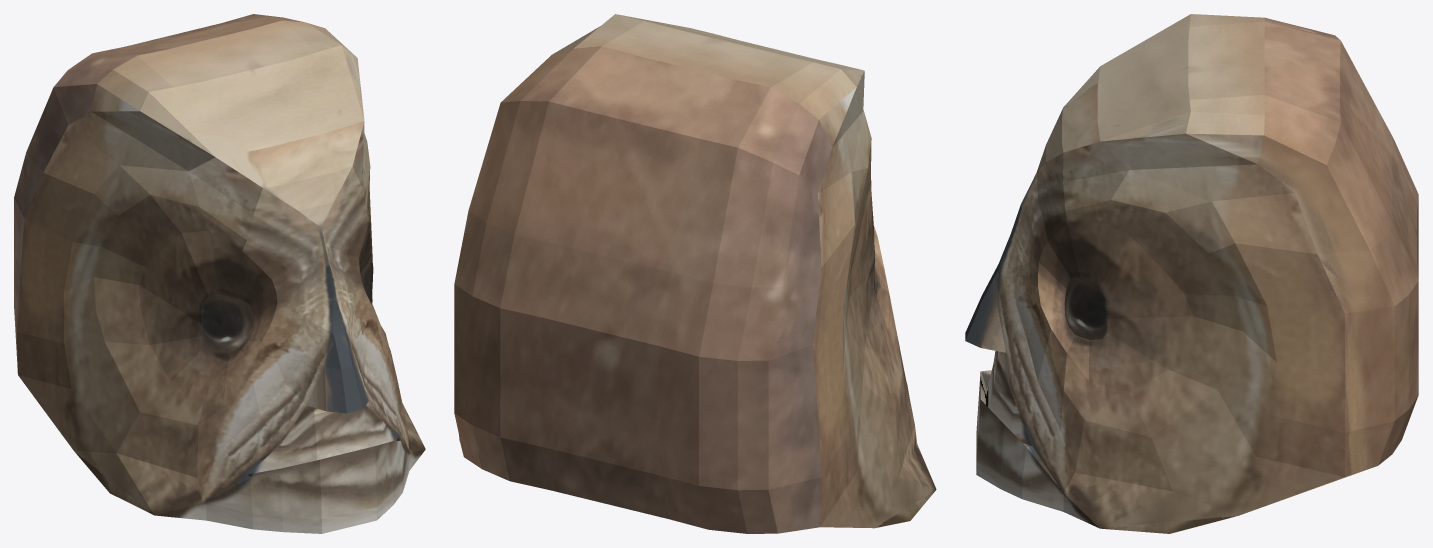
Rendered from Cabeca1.fbx.
3 views of the same model, side by side, from view 1: azimuth 30°, elevation 25°; view 2: azimuth 150°, elevation 25°; view 3: azimuth 270°, elevation 25° (orthographic). The views are drawn at different scales.
Parts seen in each view (by area): view 1: Head; view 2: Head; view 3: Head.
Boxes of the visible parts, x1,y1,x2,y2 form: Head: [14, 14, 425, 533]; Head: [454, 14, 936, 533]; Head: [965, 14, 1418, 533].
Size of the model in its own units: 350 by 417 by 426.
